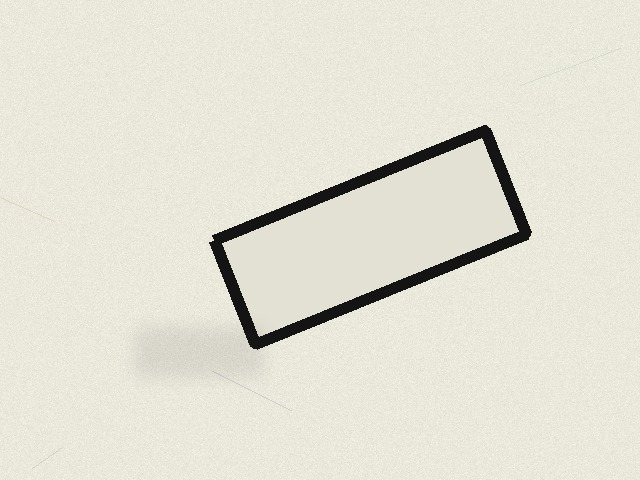parking_area: (214, 130, 526, 344)
